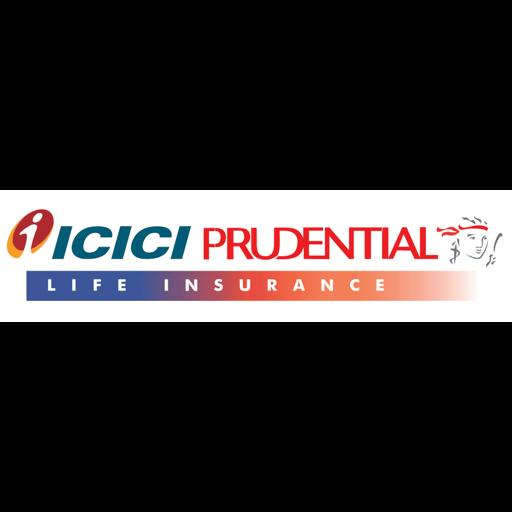ICICI Bank Limited: (0, 190, 512, 322)
